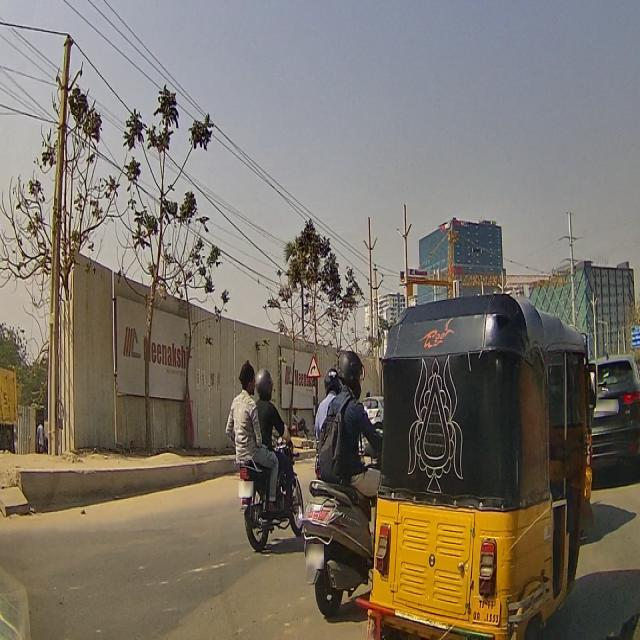right-hand-curve: (305, 354, 321, 384)
